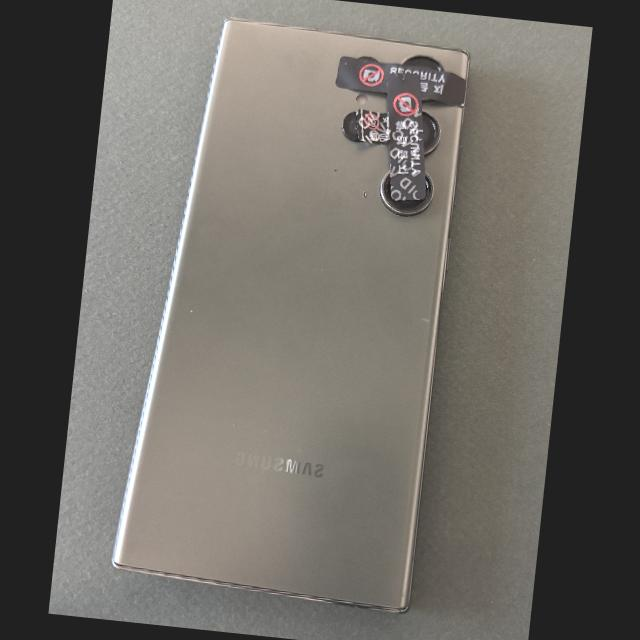lens: (381, 173, 430, 213), (400, 53, 442, 71), (420, 113, 435, 151)
phone: (113, 19, 468, 611)
sticker: (333, 55, 465, 108), (383, 74, 426, 202), (355, 108, 388, 145)
